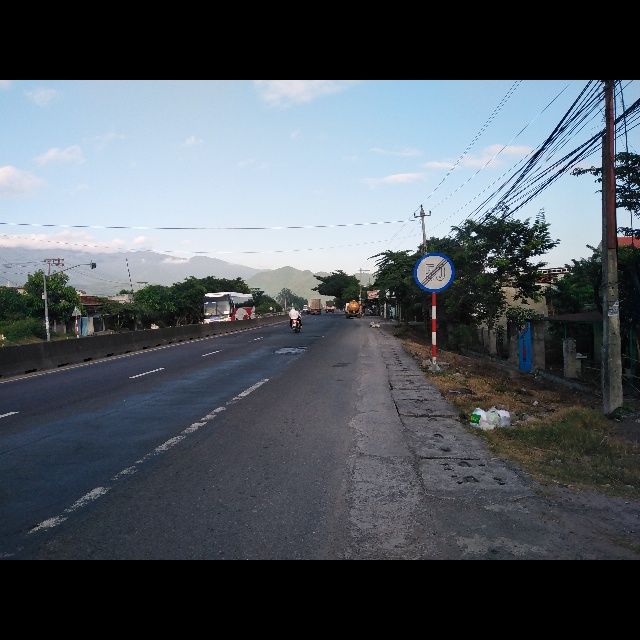Hết hạn chế tốc độ tối đa 50km/h: (413, 253, 455, 292)
